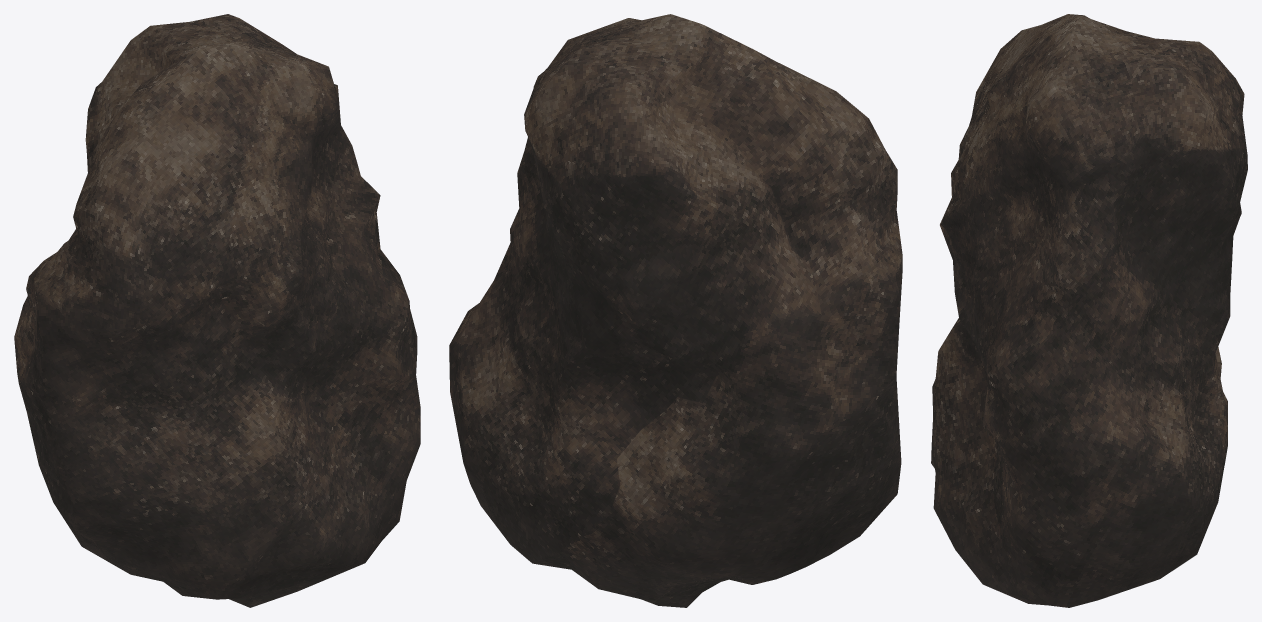
The model's file is SM_RP2_Rock_8m_4.001.glb.
3 renders of one model, left to right at view 1: azimuth 30°, elevation 25°; view 2: azimuth 150°, elevation 25°; view 3: azimuth 270°, elevation 25°, orthographic. The views are drawn at different scales.
Visible parts, largest first — view 1: SM_RP2_Rock_8m_4.001; view 2: SM_RP2_Rock_8m_4.001; view 3: SM_RP2_Rock_8m_4.001.
Boxes of the visible parts, box(x1,y1,x2,y2) form: SM_RP2_Rock_8m_4.001: box(14, 14, 420, 607); SM_RP2_Rock_8m_4.001: box(449, 14, 902, 607); SM_RP2_Rock_8m_4.001: box(931, 14, 1247, 607).
Size of the model in its own units: 10.66 by 14.39 by 7.4.
1 material, 1 textured.
